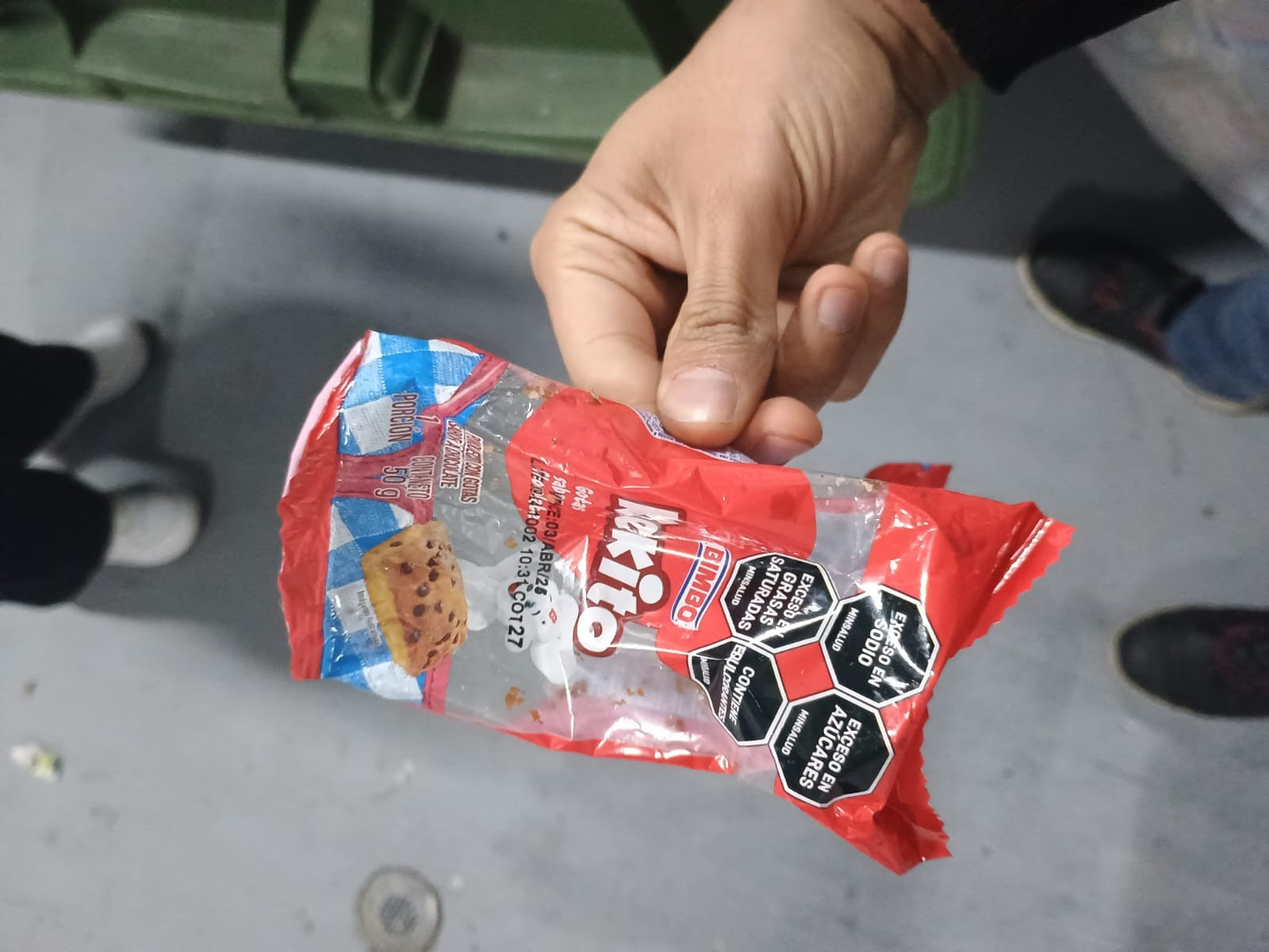Ordinario: (273, 328, 1077, 875)
